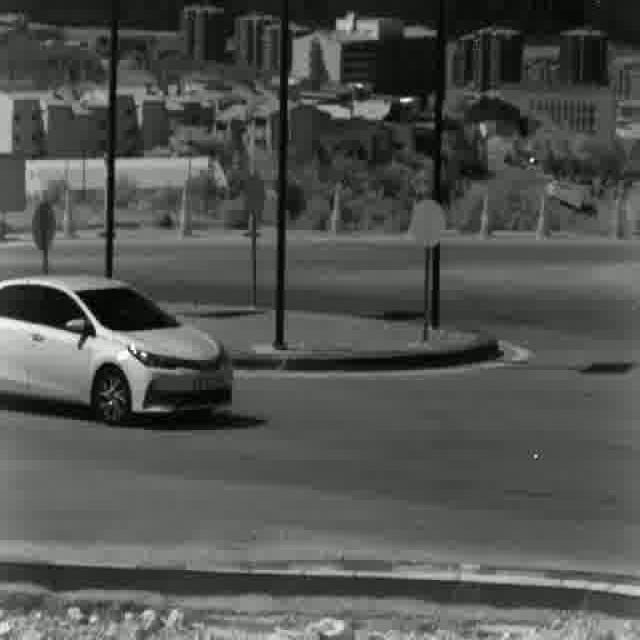Car: (0, 274, 236, 430)
